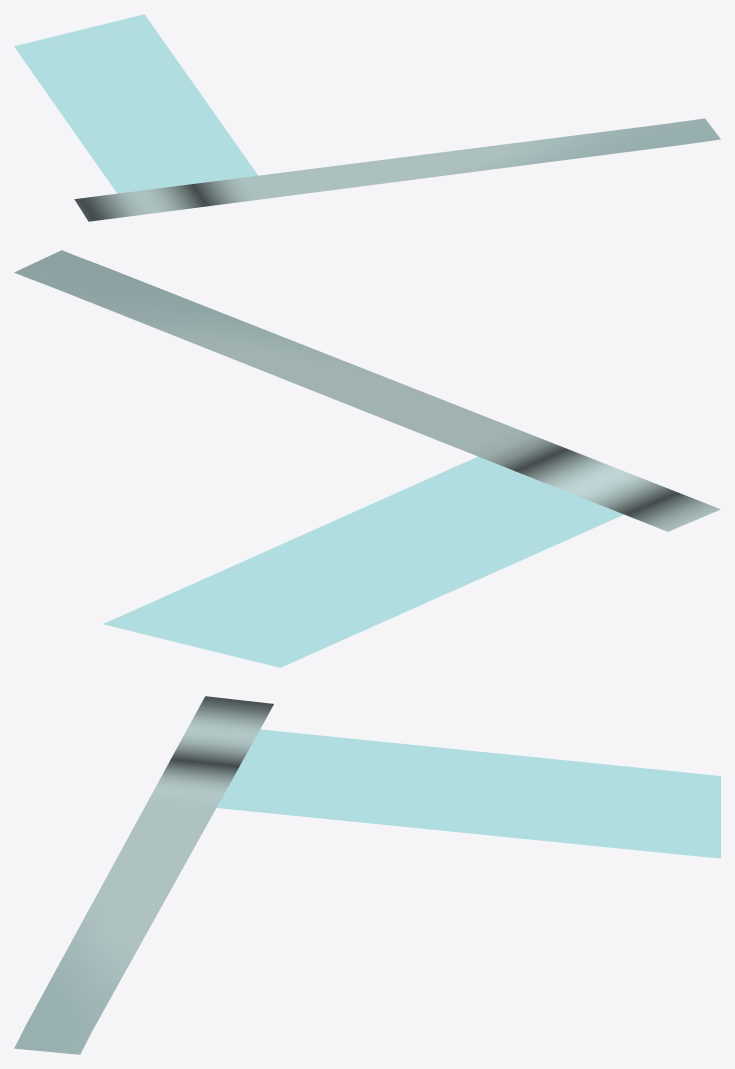
3 renders of one model, top to bottom at view 1: azimuth 30°, elevation 25°; view 2: azimuth 150°, elevation 25°; view 3: azimuth 270°, elevation 25°, orthographic. The views are drawn at different scales.
Parts seen in each view (by area): view 1: Hammer, Handle; view 2: Hammer, Handle; view 3: Hammer, Handle.
Part boxes in pixels (x1,y1,x2,y2): Hammer: [14, 14, 257, 193]; Handle: [74, 118, 720, 221]; Hammer: [103, 456, 623, 667]; Handle: [14, 250, 720, 531]; Hammer: [216, 729, 720, 858]; Handle: [14, 696, 273, 1054].
Size of what is drawn, in the model's own units: 639 by 1.38 by 532.
